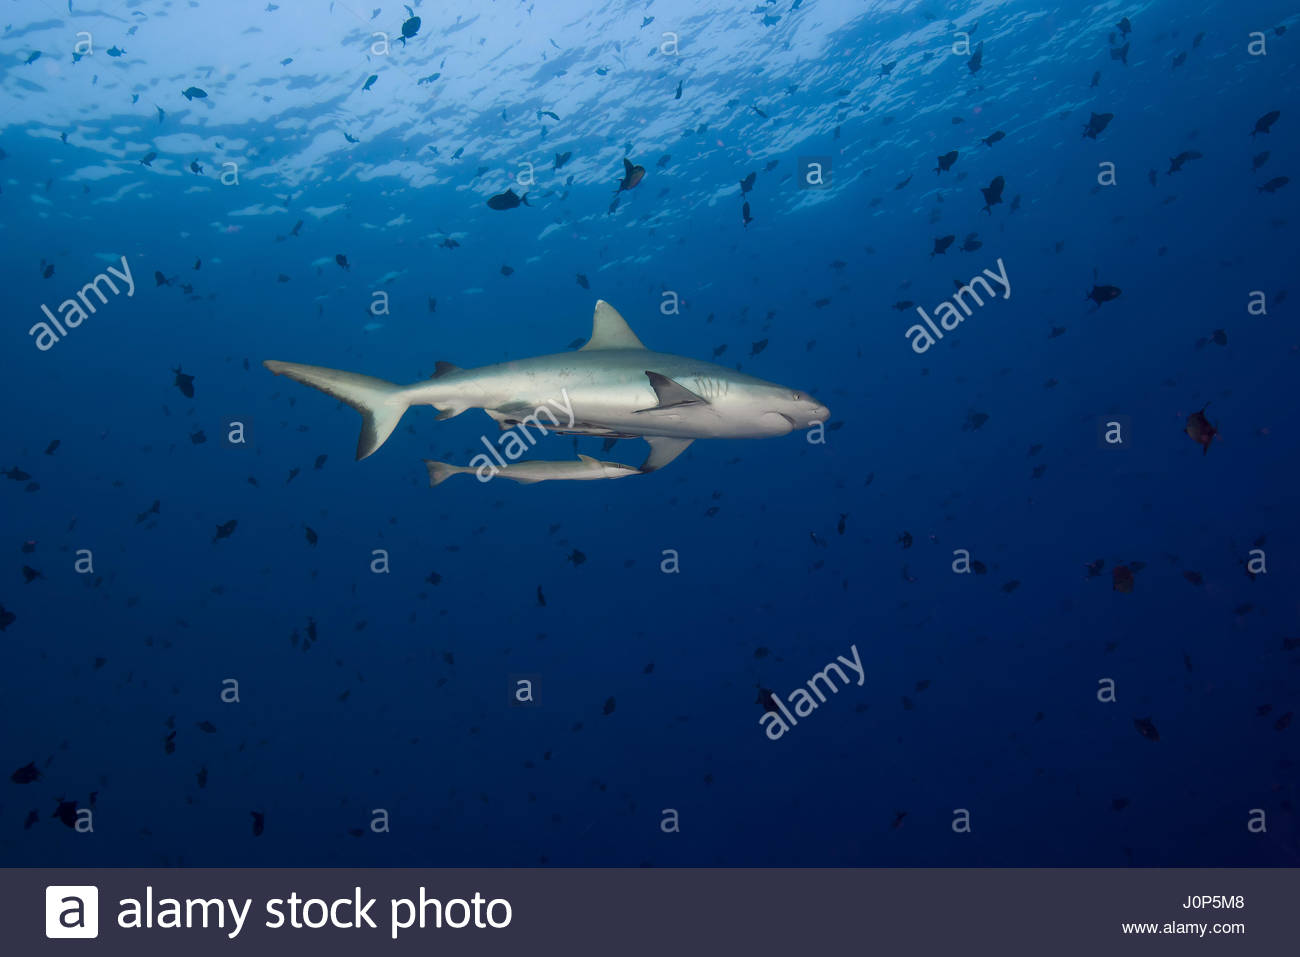Carcharhinus_amblyrhynchos: (255, 298, 862, 499)
